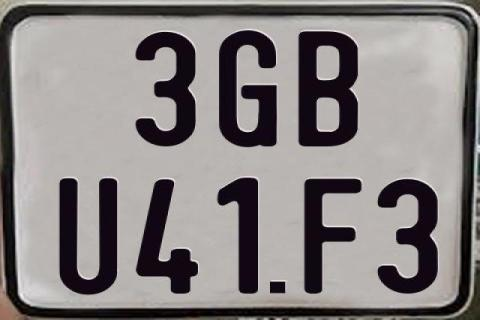0: (375, 179, 441, 296), (133, 177, 195, 295), (134, 31, 195, 145), (216, 178, 263, 298)
B: (298, 31, 360, 148)
F: (304, 176, 368, 291)
G: (219, 31, 283, 147)
U: (59, 176, 117, 292)
